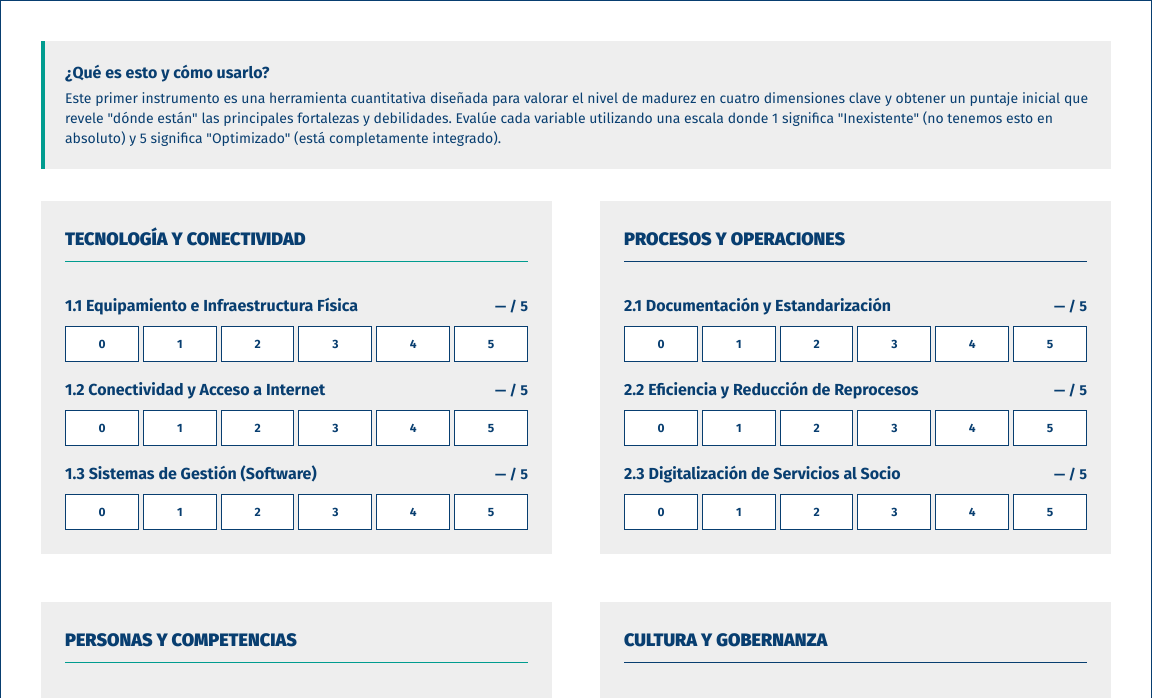
Test: TabNiveles (wizard) › renderiza la pregunta condicional 1.4 sólo si 1.3 >= 1
expect the text "1.4 Integración de Sistemas" is not shown: met
# Tomamos el segmento "1" del grupo d1_q3 en la barra de progreso.
Click the button "1" below "1.3 Sistemas de Gestión (Software)" at (180, 512), box [143,494,217,530]
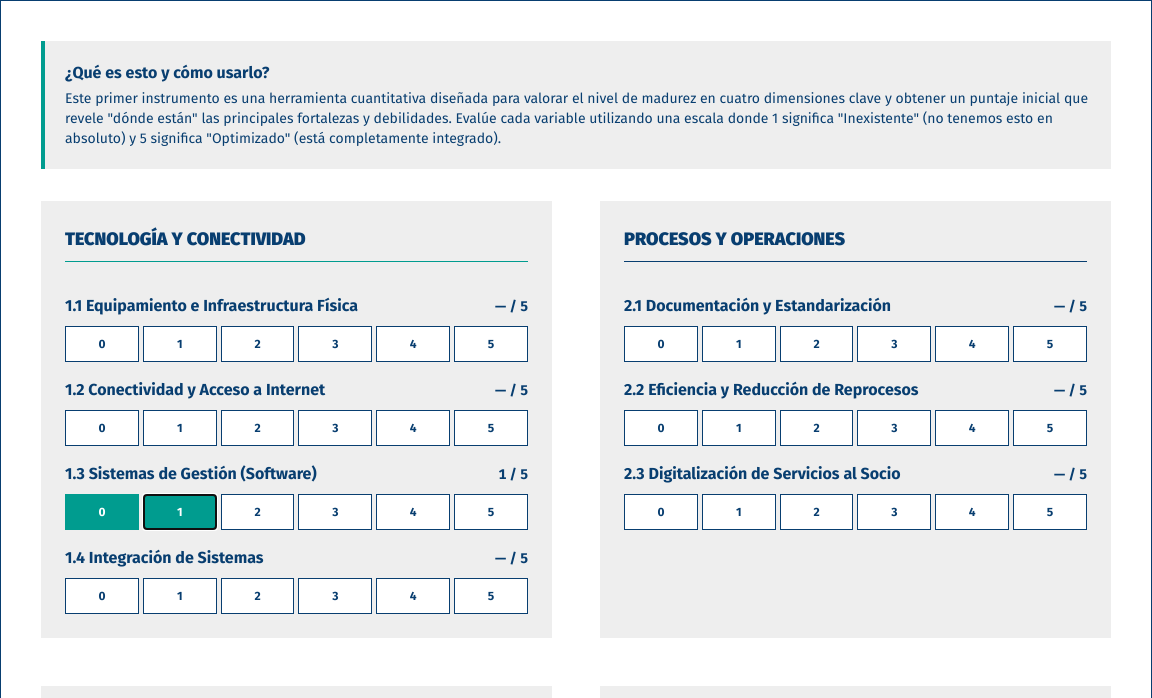
expect the text "1.4 Integración de Sistemas" is shown: met, box [65,546,264,570]
